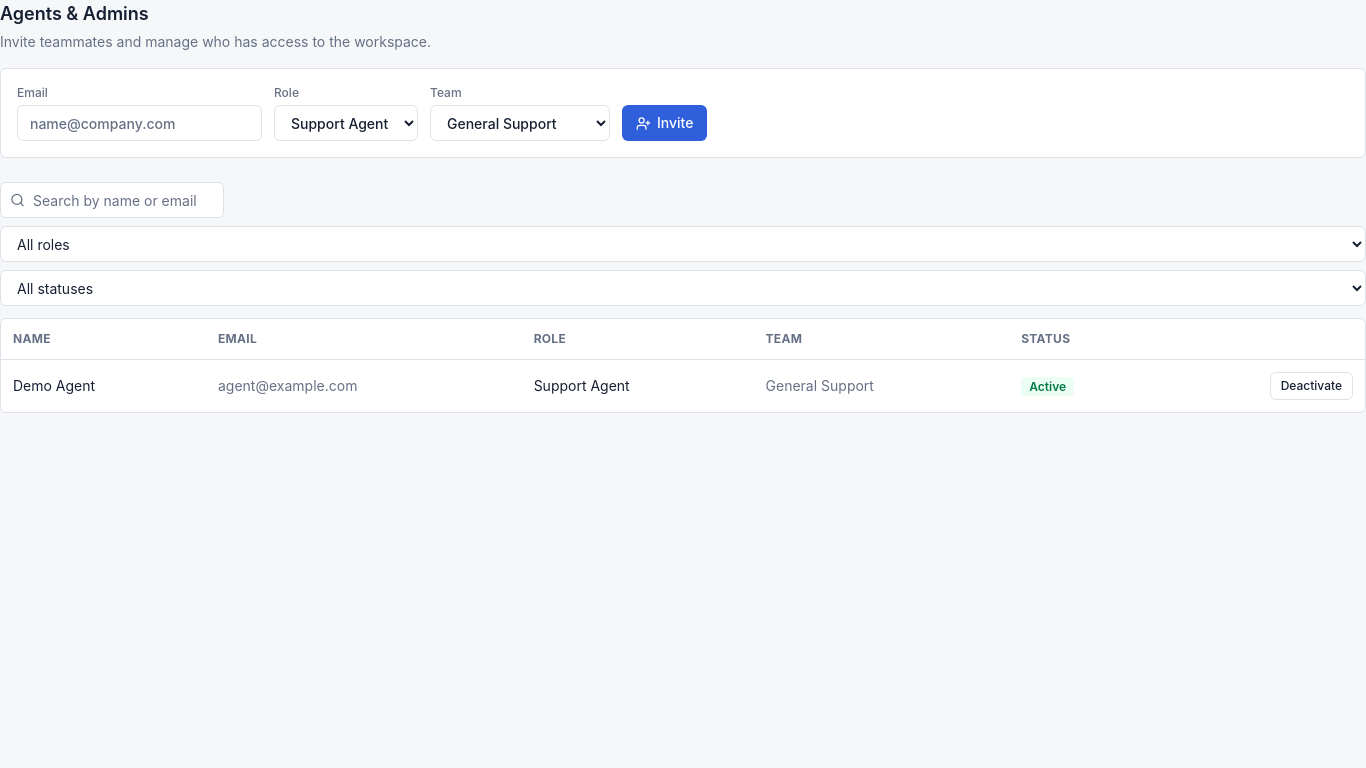
Test: AgentsPage › can deactivate an active agent
Expected: the text "agent@example.com" is shown, [206,360,522,412]
Step 1. Click the button "Deactivate" → (1311, 386), box [1270,372,1353,400]
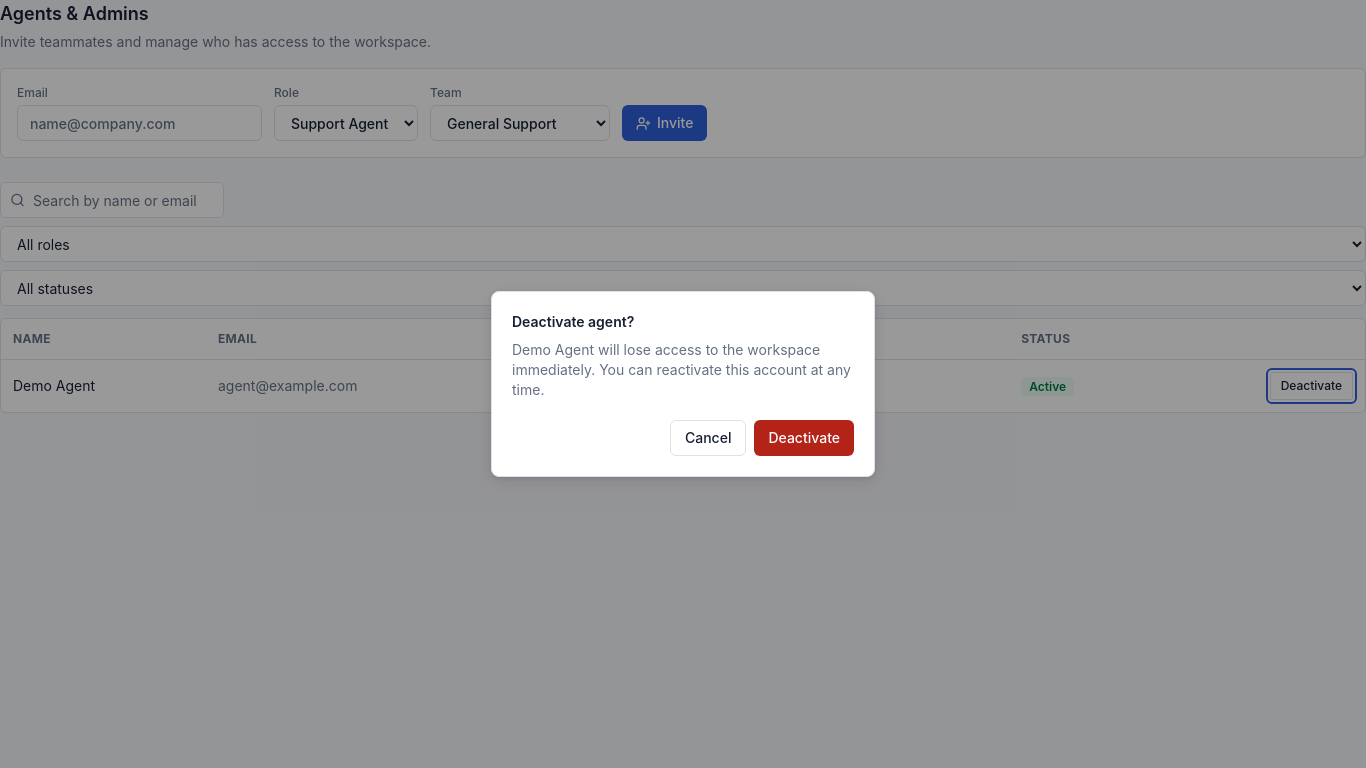
Step 2. Click the button "Deactivate" → (804, 438), box [754,420,854,456]
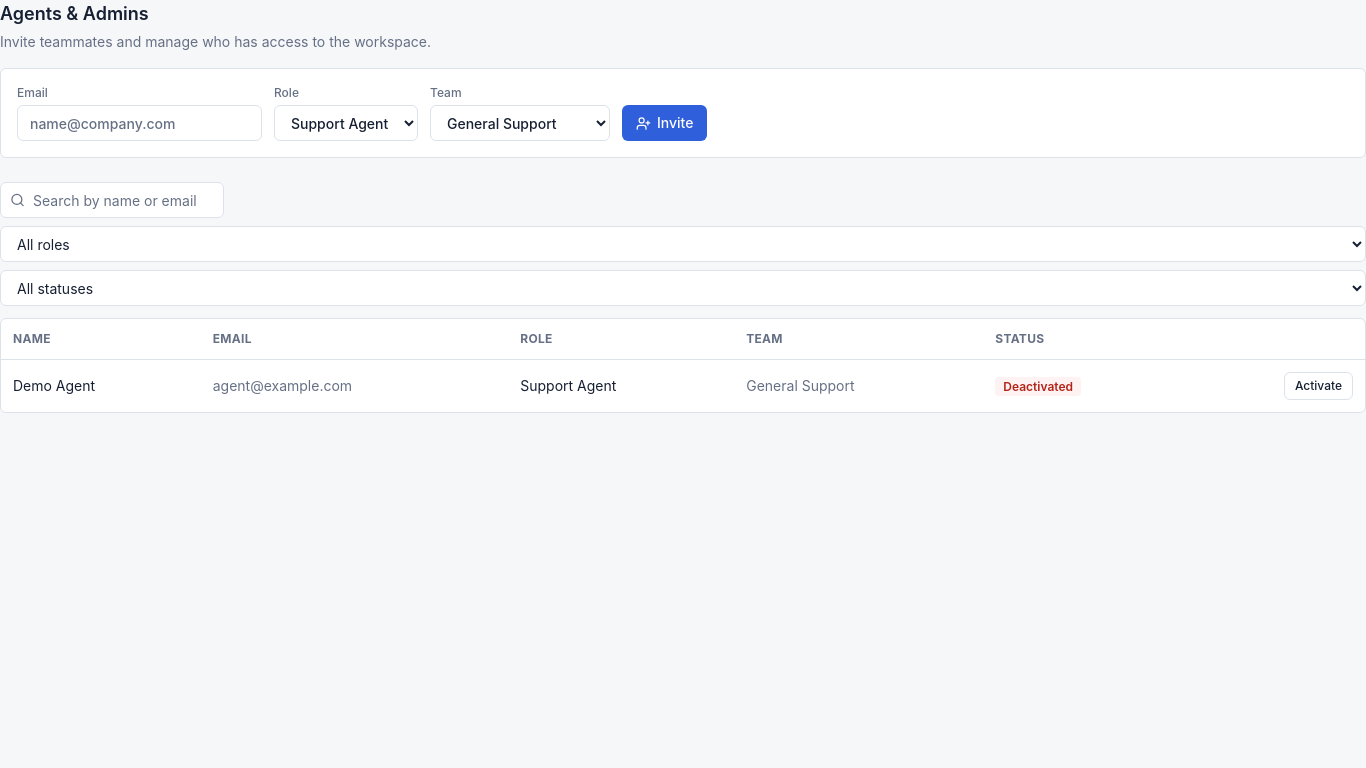
Expected: the row "agent@example.com" shows "Deactivated", [1003,379,1073,394]
